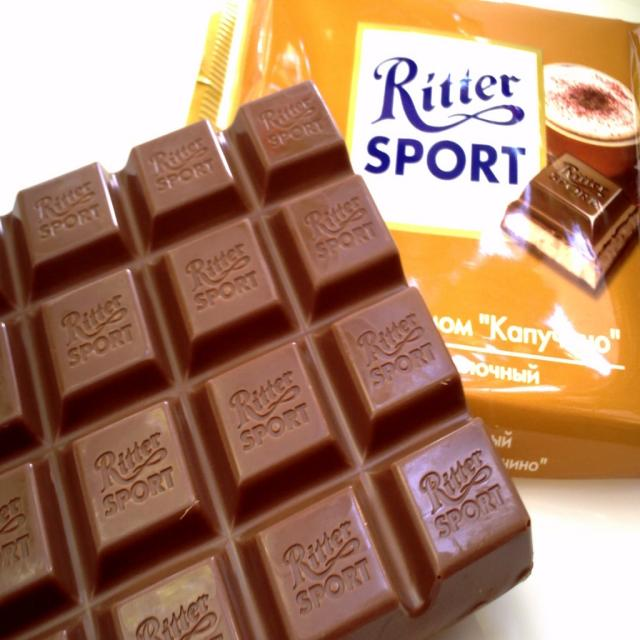rittersport: (346, 22, 550, 250)
